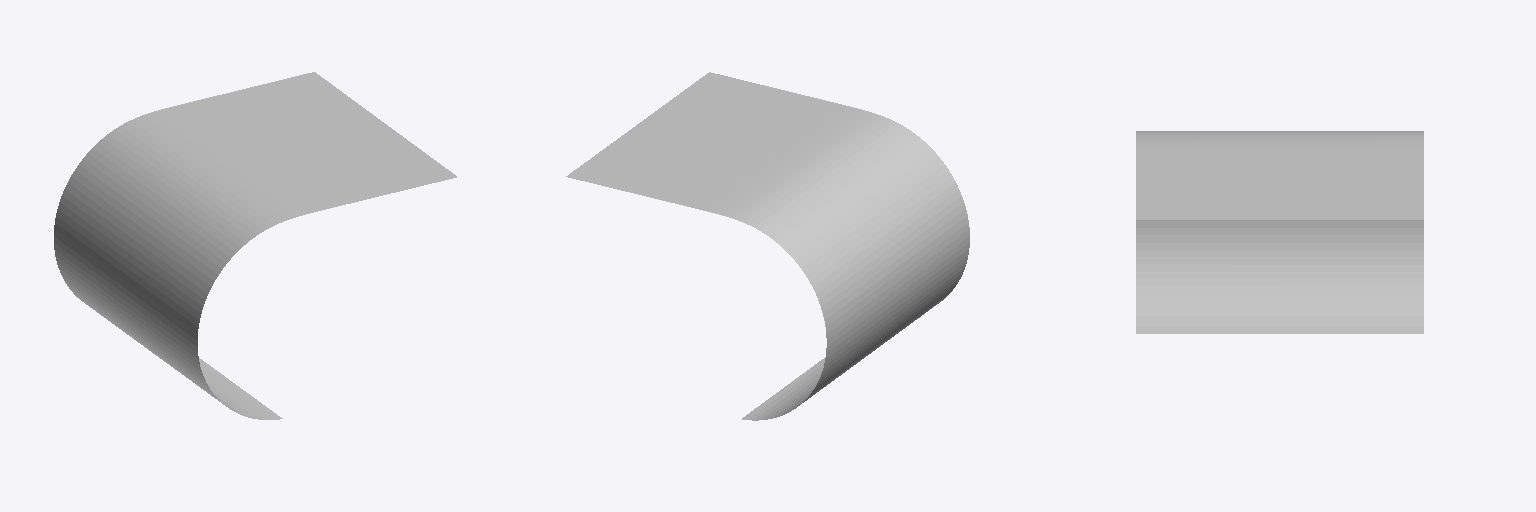
The model's file is CurvePaper_000040.obj.
The picture shows the model from 3 angles: view 1: azimuth 30°, elevation 25°; view 2: azimuth 150°, elevation 25°; view 3: azimuth 270°, elevation 25°; orthographic projection.
Parts seen in each view (by area): view 1: Plane; view 2: Plane; view 3: Plane.
Part boxes in pixels (x1,y1,x2,y2): Plane: (54,72,456,419); Plane: (566,72,969,420); Plane: (1136,131,1423,333).
Size of the model in its own units: 2.37 by 1.73 by 2.26.